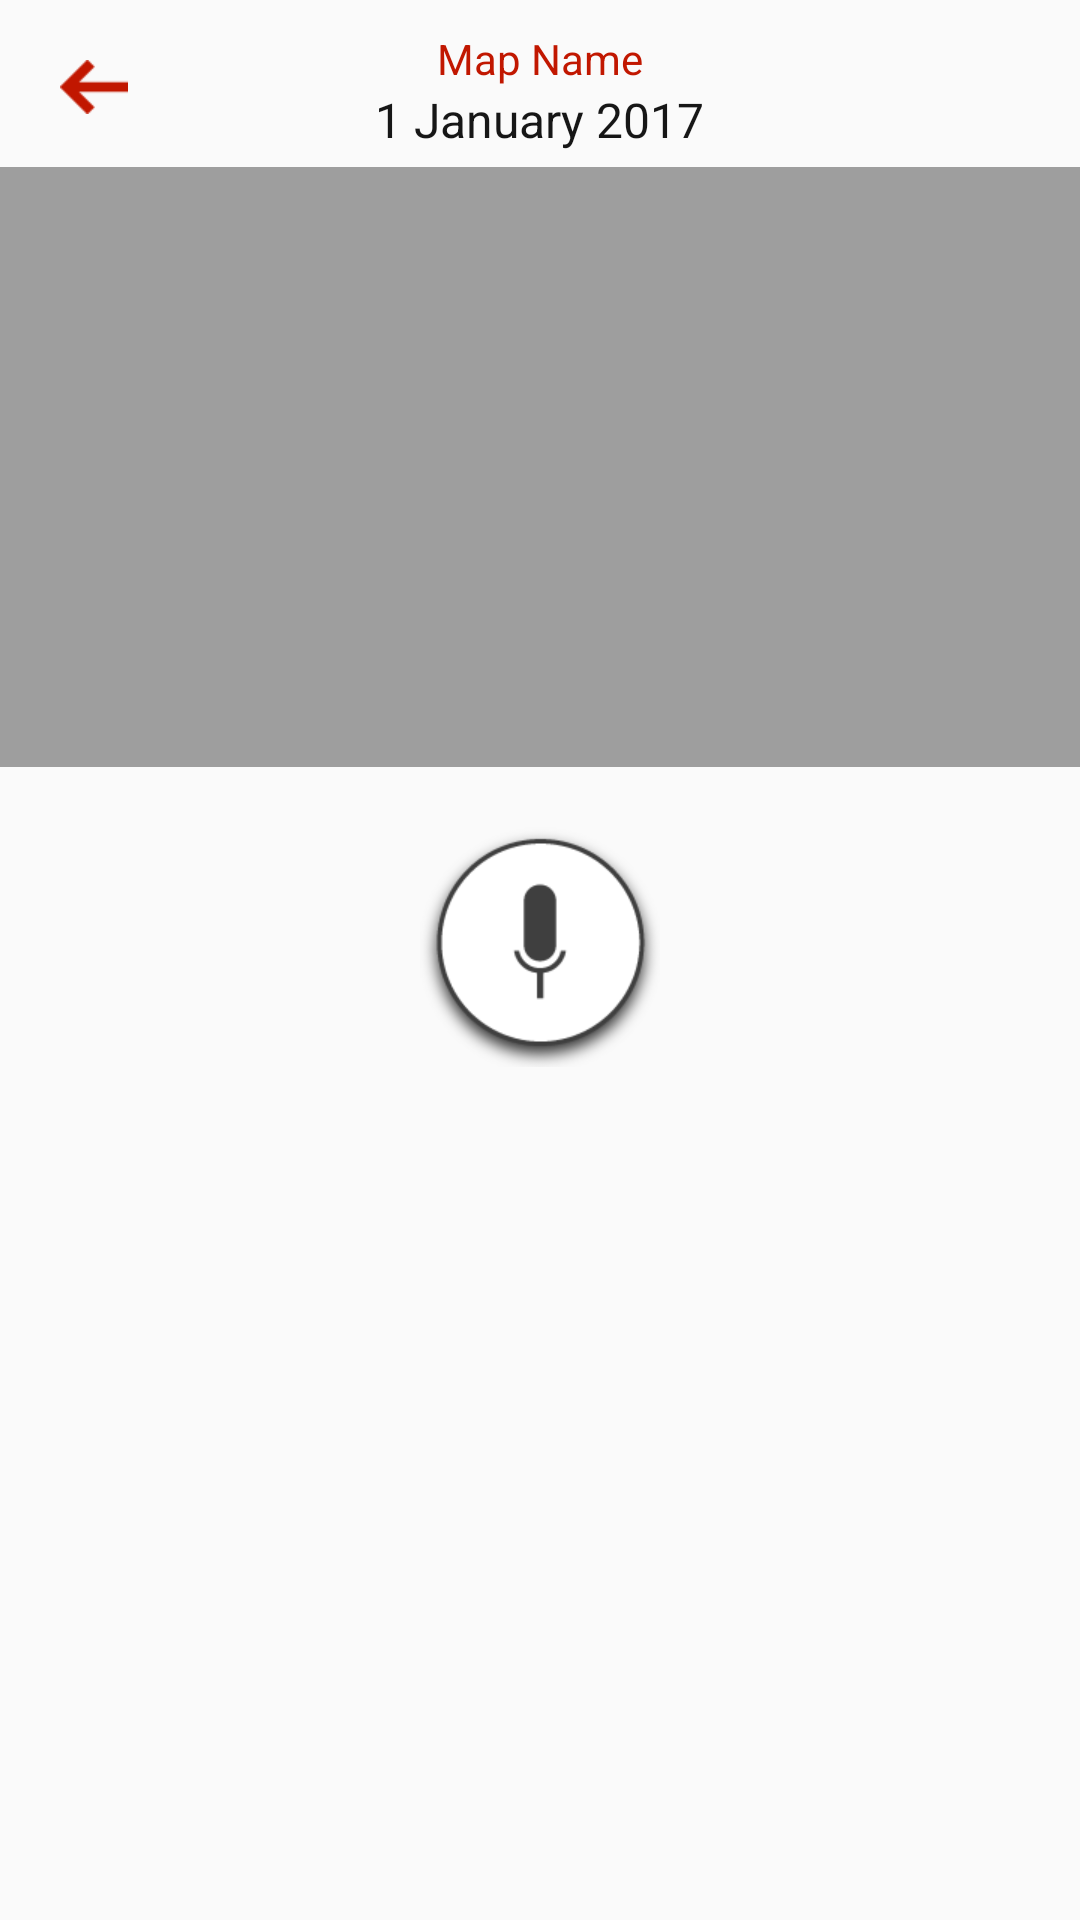

Icon click points for this 1080x1920 phone screenshot, format (x=x, y=y):
back to map list: (x=94, y=87)
